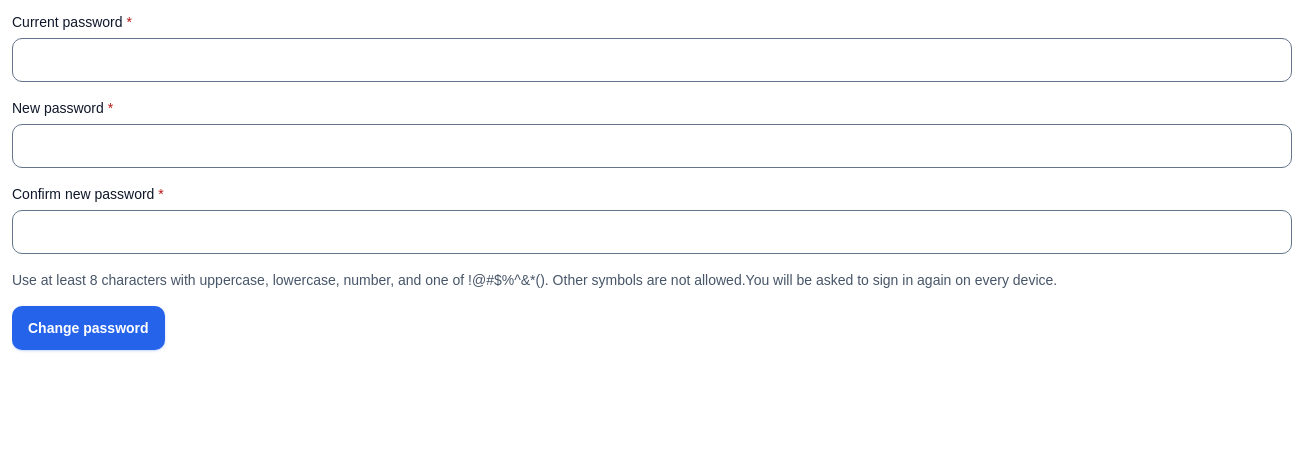
it: ChangePasswordForm › keeps the session when the server rejects the change
Type "wrong-password" into the password field labelled "Current password".
click(652, 60); type("wrong-password")  # box [12,38,1292,82]
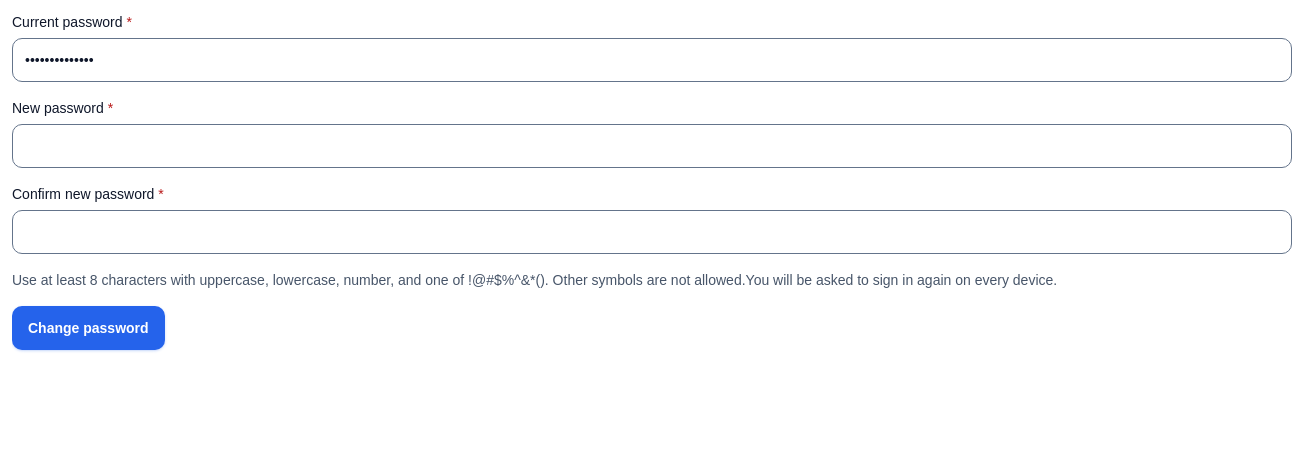
Type "PrivateAdminPassword123!" into the password field labelled "New password".
click(652, 146); type("PrivateAdminPassword123!")  # box [12,124,1292,168]
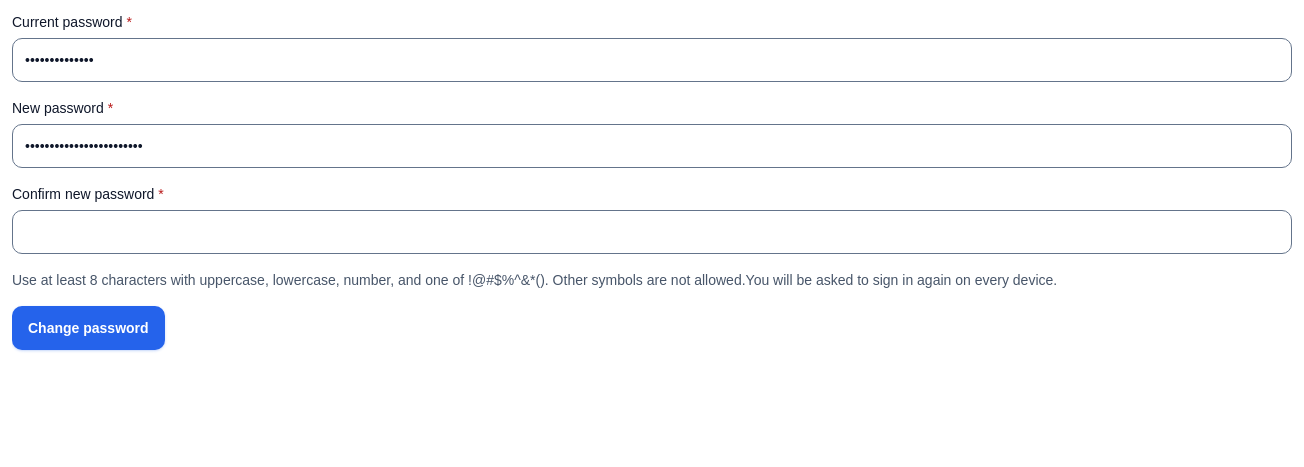
Type "PrivateAdminPassword123!" into the password field labelled "Confirm new password".
click(652, 232); type("PrivateAdminPassword123!")  # box [12,210,1292,254]
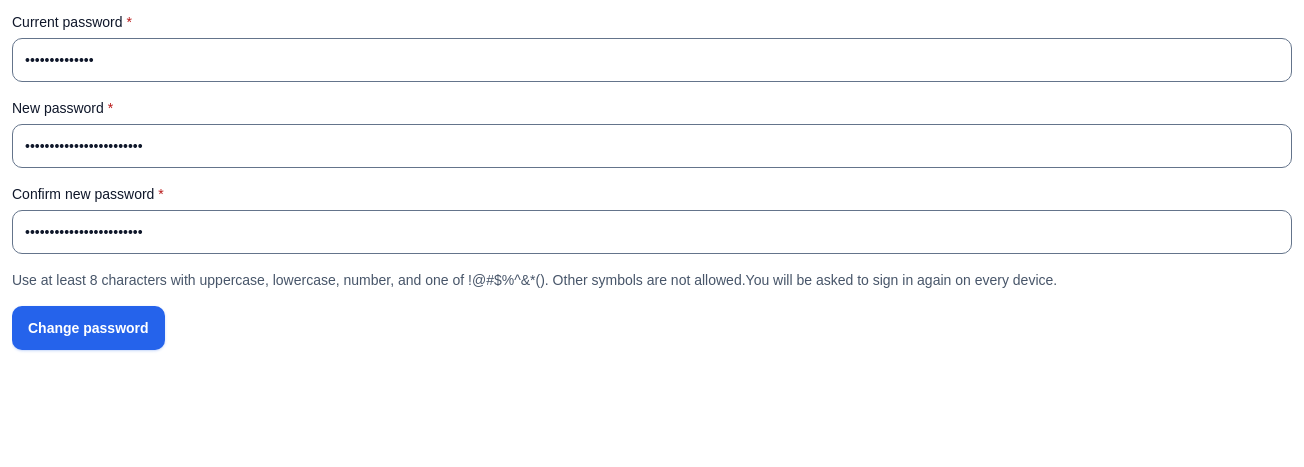
Click the button "Change password".
click(88, 328)  # box [12,306,165,350]
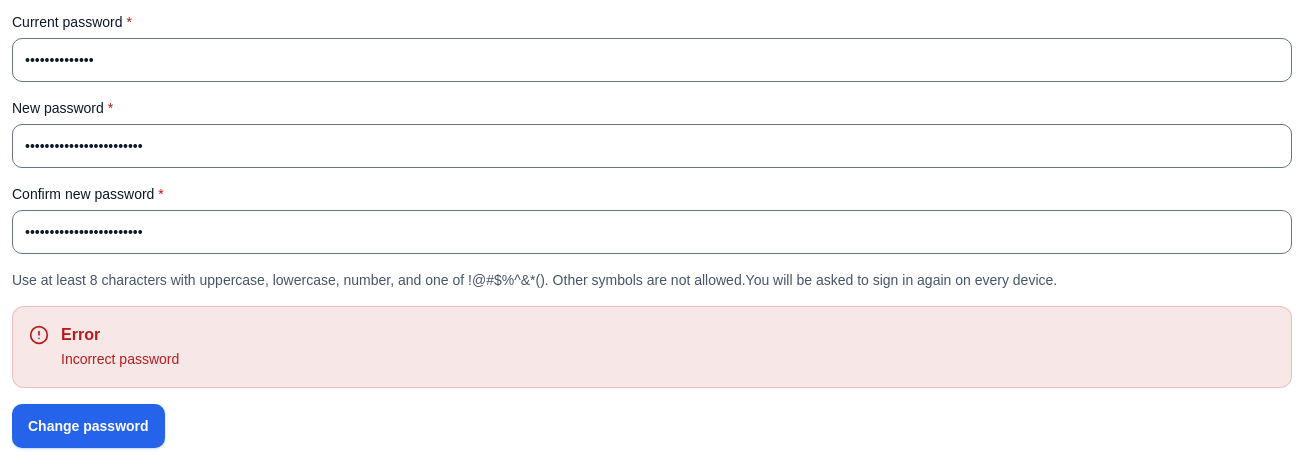
Check: the text "Incorrect password" is shown, box [61,347,179,371]
